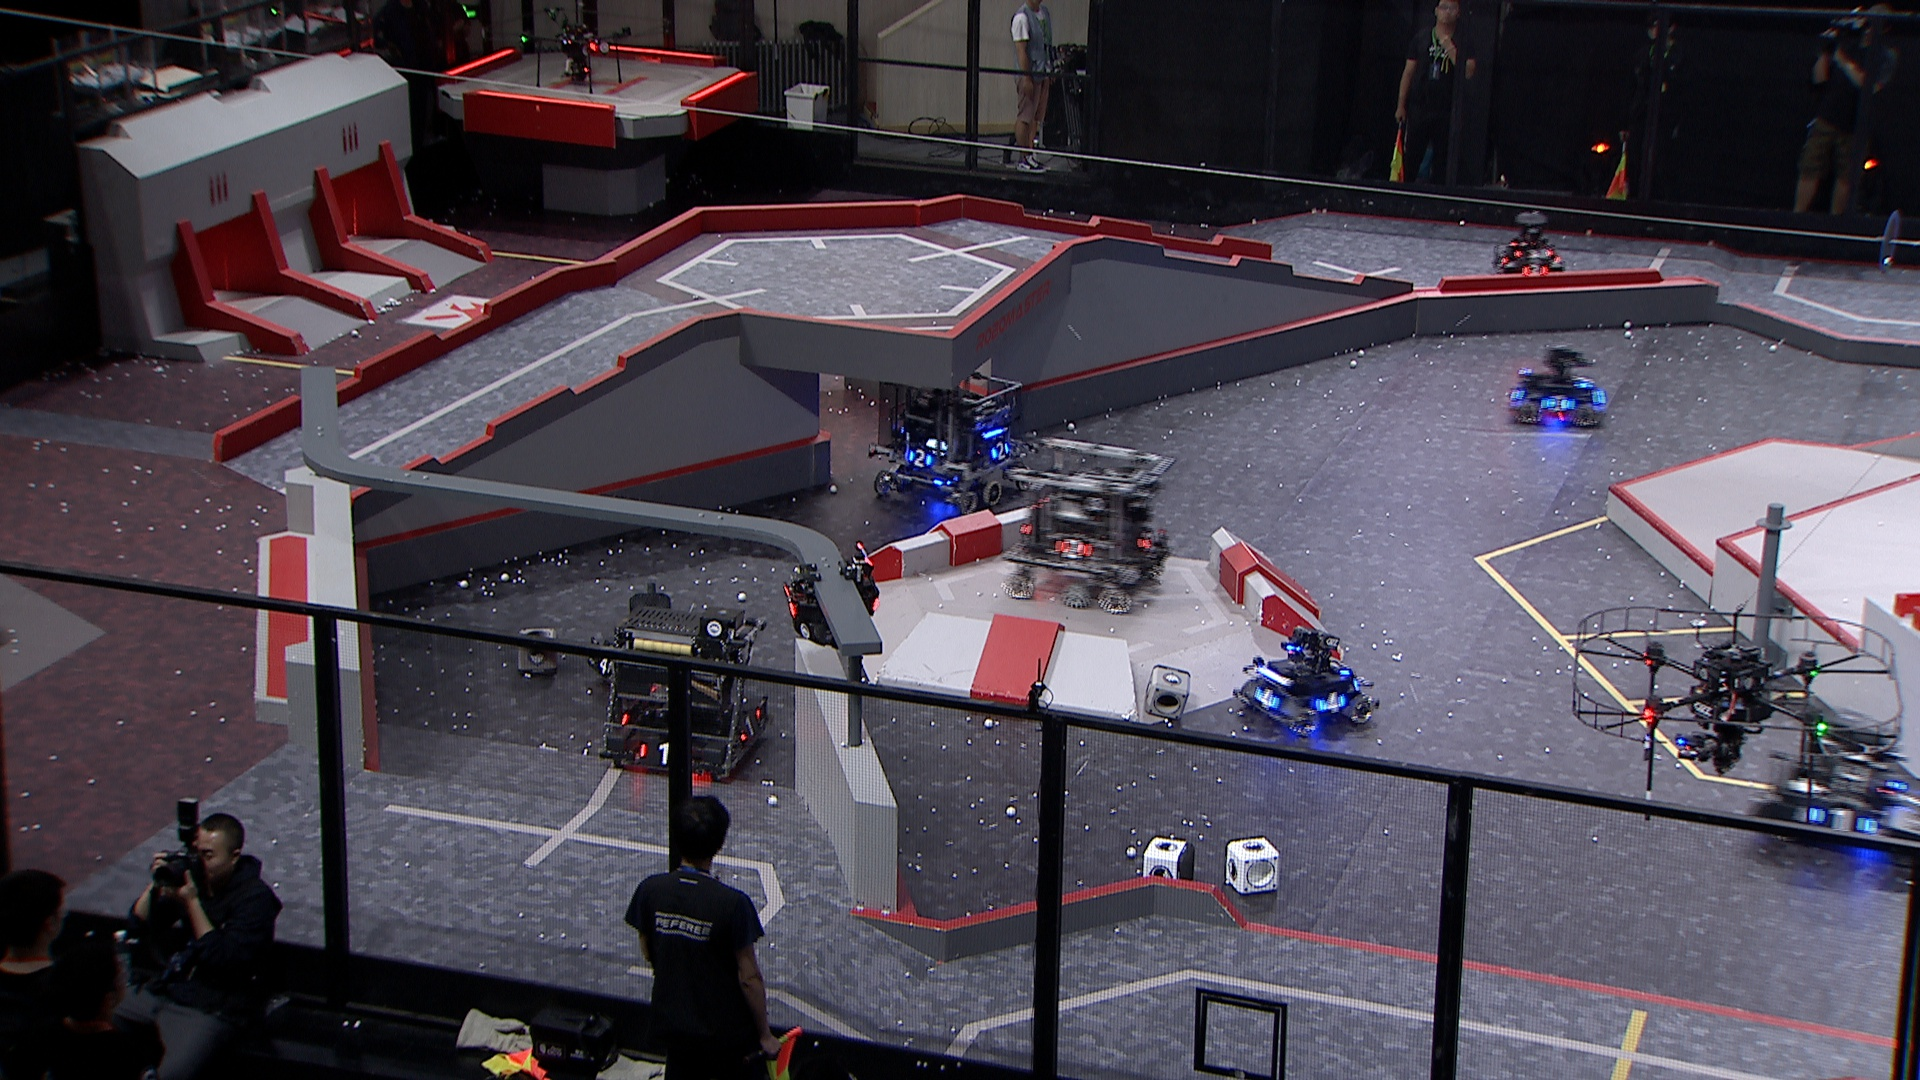armor: (1807, 804, 1878, 841), (736, 702, 766, 746), (636, 736, 676, 769), (1054, 535, 1096, 562), (781, 584, 804, 622), (1250, 684, 1280, 713), (1313, 690, 1348, 713), (905, 447, 936, 471), (1543, 392, 1575, 414), (1138, 527, 1163, 555), (593, 650, 617, 678), (986, 439, 1011, 462), (1513, 245, 1553, 258), (1520, 262, 1552, 277), (1575, 371, 1596, 390)
car: (596, 599, 771, 783), (1002, 433, 1179, 613), (1742, 711, 1920, 868), (869, 371, 1026, 516), (1225, 622, 1379, 737), (583, 580, 698, 690), (1505, 344, 1607, 429), (1489, 207, 1569, 284)
watcher: (781, 541, 880, 650)
